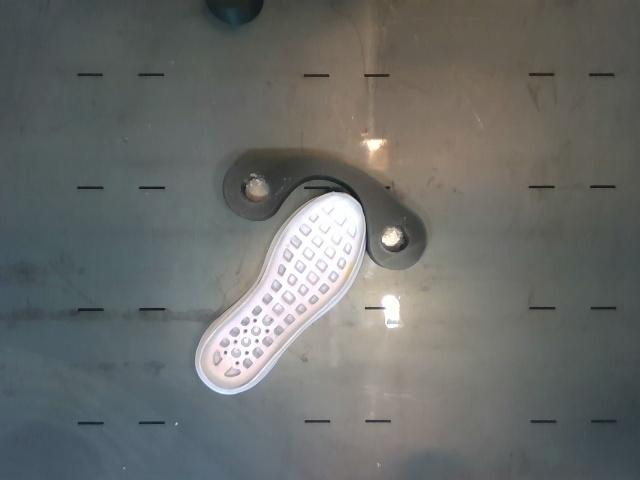shoes: (200, 194, 365, 389)
